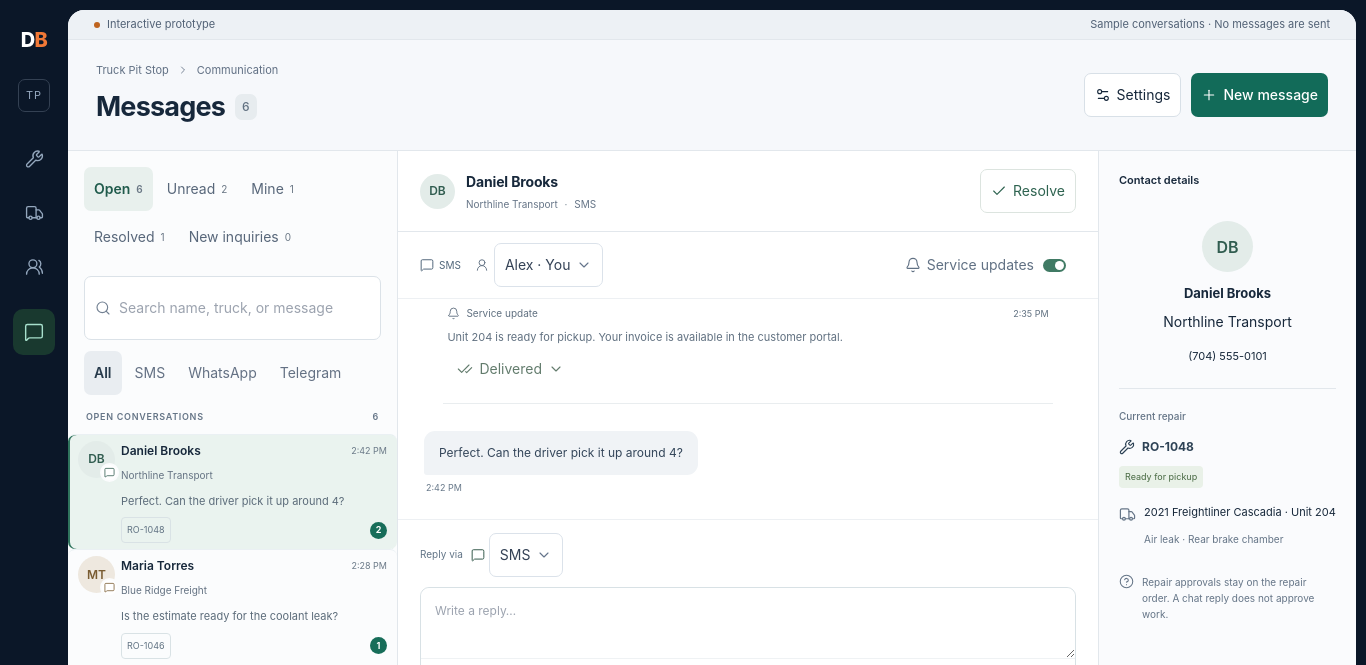
shared inbox foundation › supports resolution, assignment and hiding automated notices
(page scrolled)
Click the button with aria-label "Assign conversation".
click(549, 265)  # box [494,243,604,287]
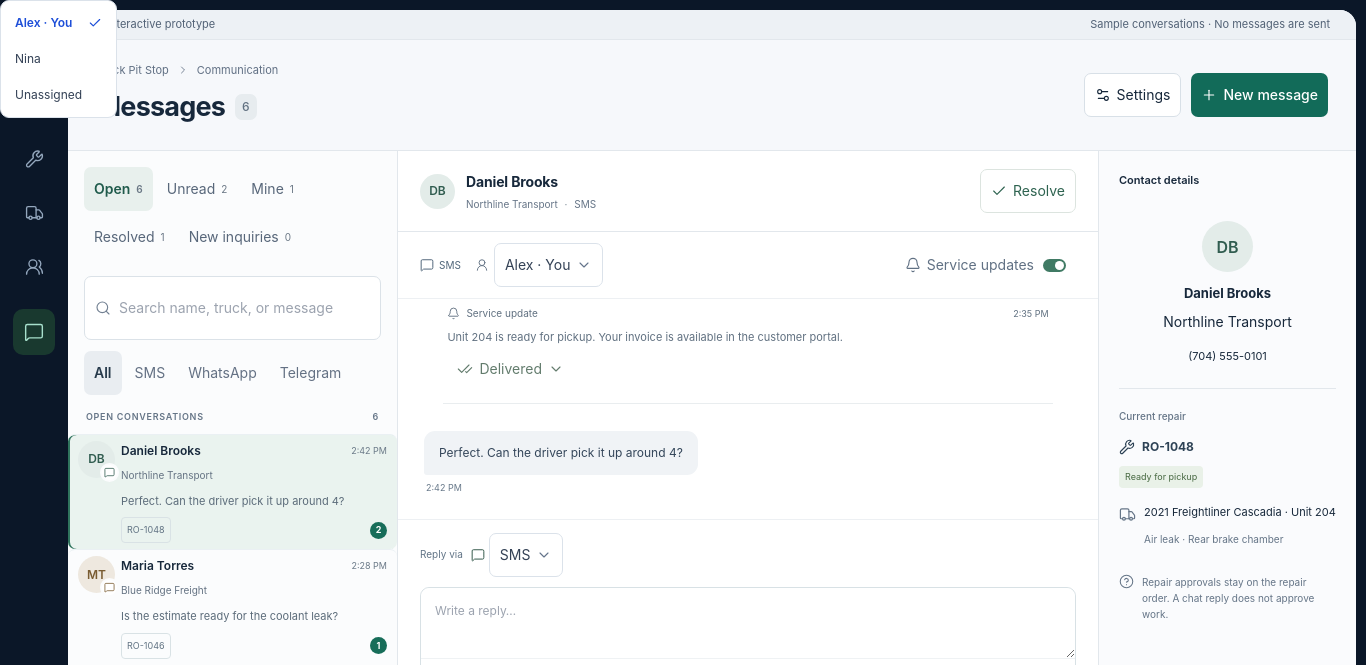
Click the option "Nina".
click(28, 58)  # box [15,51,41,66]
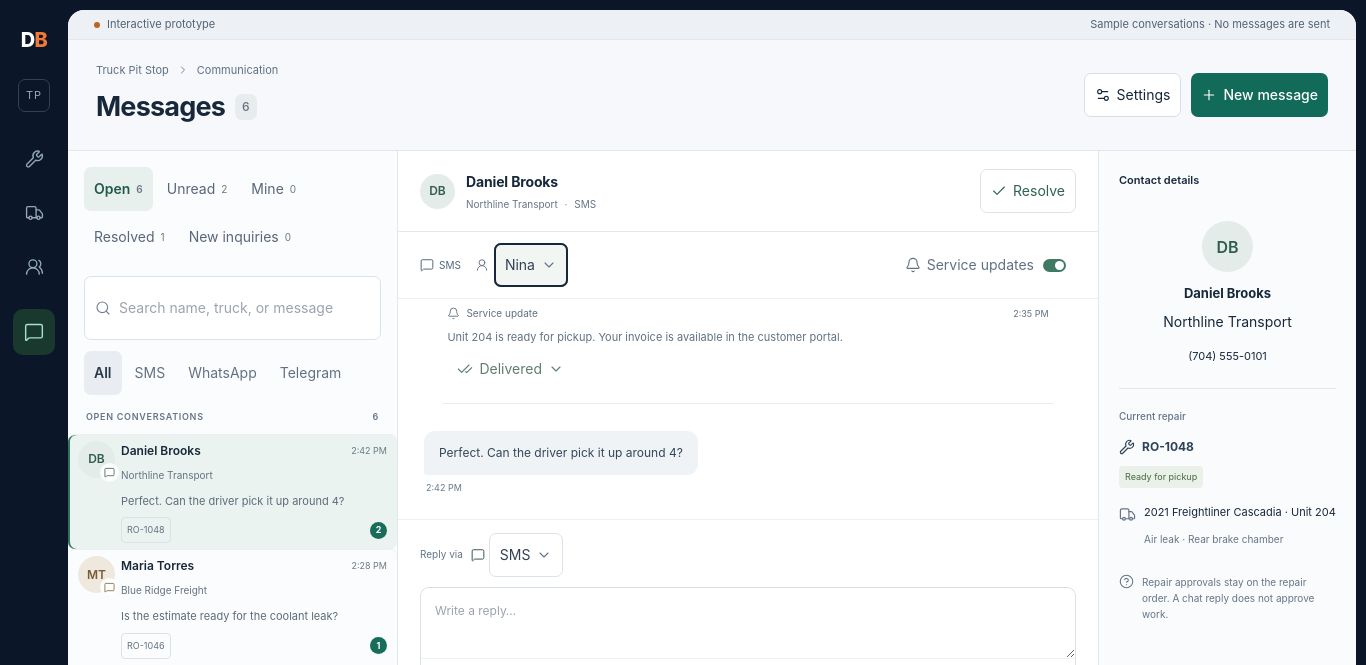
Expected: the button with aria-label "Assign conversation" reads "Nina", [494,243,568,287]
Click the button "Service updates".
click(985, 265)  # box [895,243,1076,287]
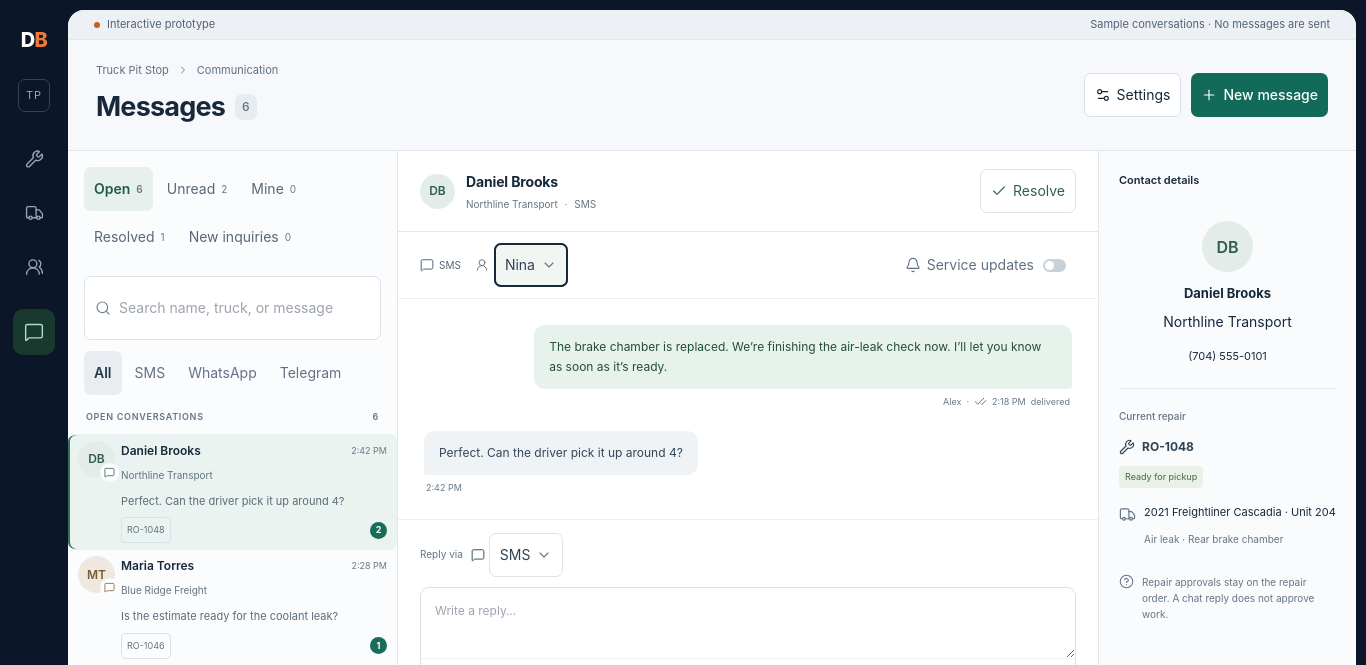
Expected: the text "Unit 204 is ready for pickup. Your invoice is available in the customer portal." is gone
Click the button "Resolve".
click(1028, 191)  # box [980,169,1076,213]
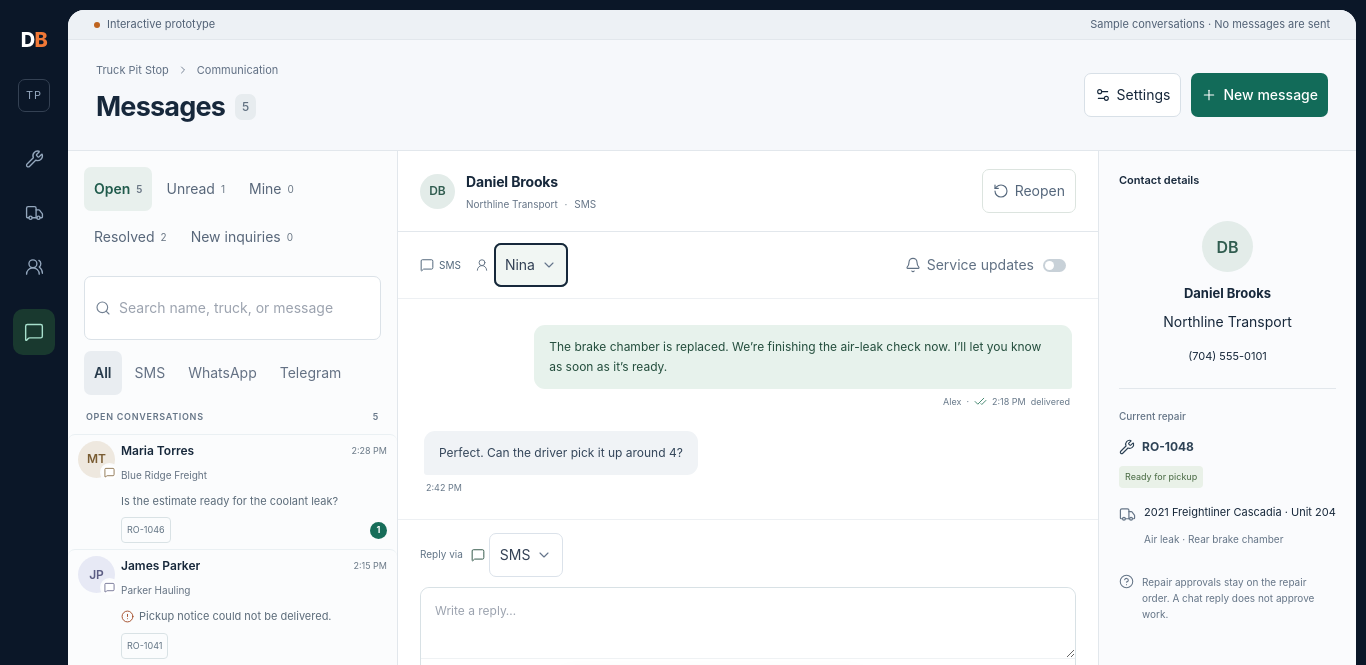
Expected: the button "Reopen" is shown, [982,169,1076,213]
Click the button "Resolved 2".
click(130, 237)  # box [84,215,177,259]
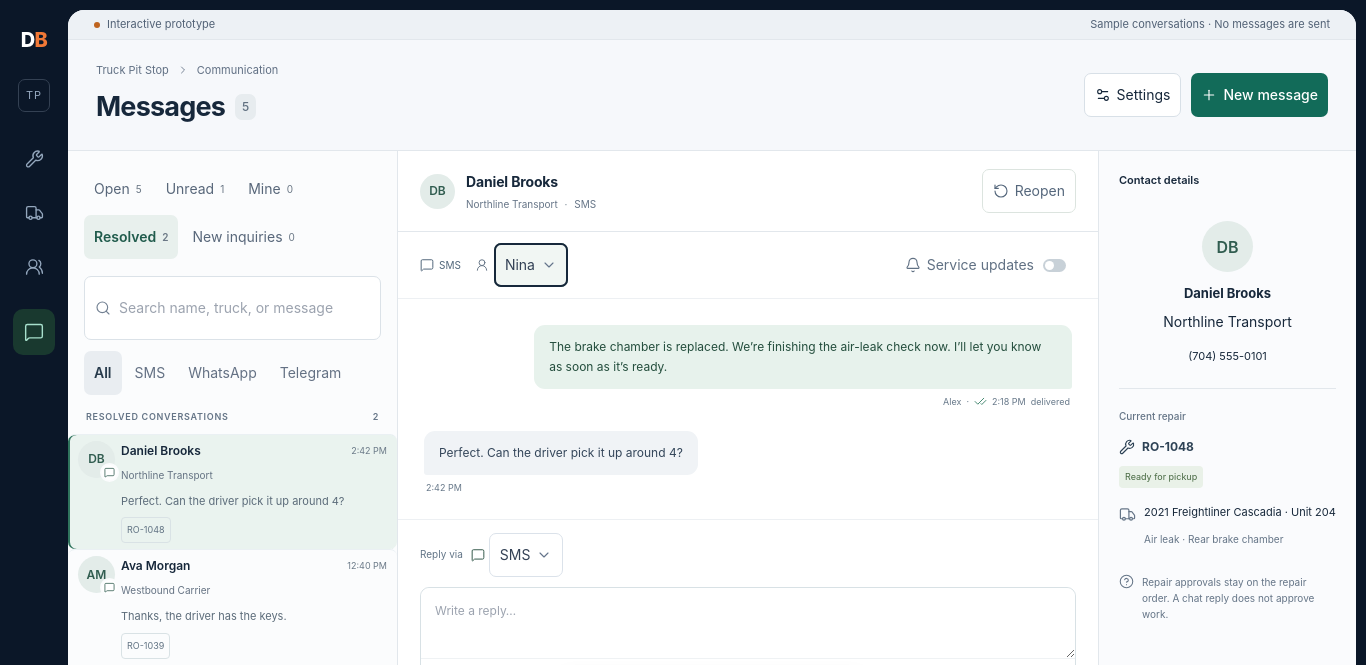
Expected: the button that starts with "Daniel Brooks" is shown, [68,434,397,549]
